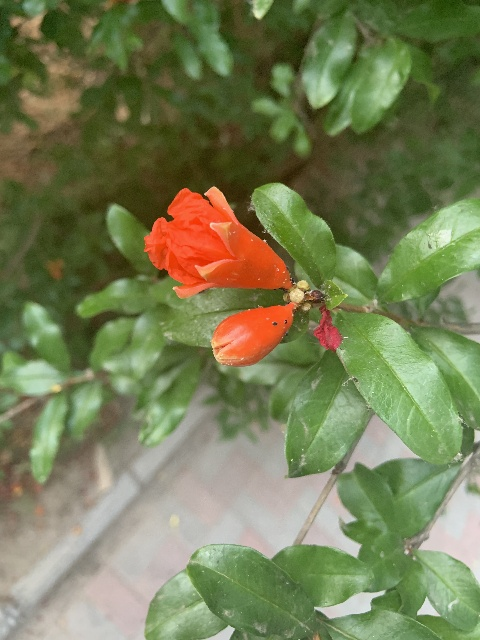bud: (211, 304, 293, 366)
flower: (143, 186, 292, 302)
